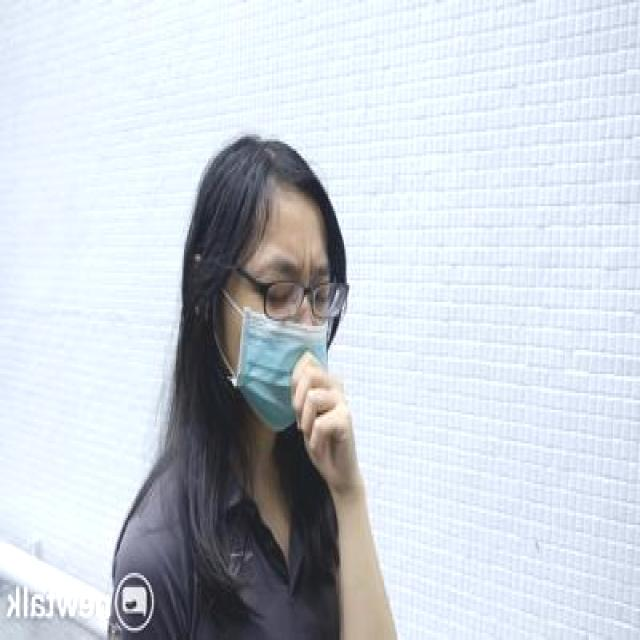face_mask: (229, 249, 336, 436)
glasses: (258, 273, 354, 326)
hand_noglove: (290, 349, 361, 473)
head_nohelmet: (210, 127, 355, 261)
person: (97, 112, 418, 640)
